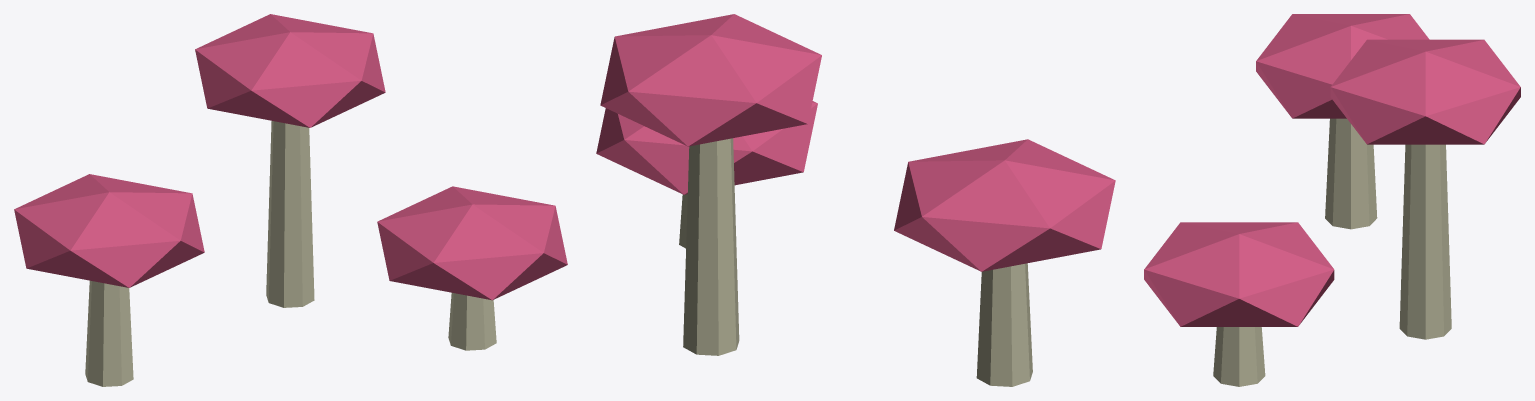
Rendered from SH10_L05_Mushrooms.fbx.
3 renders of one model, left to right at view 1: azimuth 30°, elevation 25°; view 2: azimuth 150°, elevation 25°; view 3: azimuth 270°, elevation 25°, orthographic. The views are drawn at different scales.
Parts seen in each view (by area): view 1: SH10_L05_Mushrooms; view 2: SH10_L05_Mushrooms; view 3: SH10_L05_Mushrooms.
Boxes of the visible parts, left/top/right/bottom form: SH10_L05_Mushrooms: left=14, top=14, right=567, bottom=386; SH10_L05_Mushrooms: left=596, top=14, right=1115, bottom=386; SH10_L05_Mushrooms: left=1144, top=14, right=1520, bottom=386.
Bounding box in the file's own units: 154 × 82 × 101.
